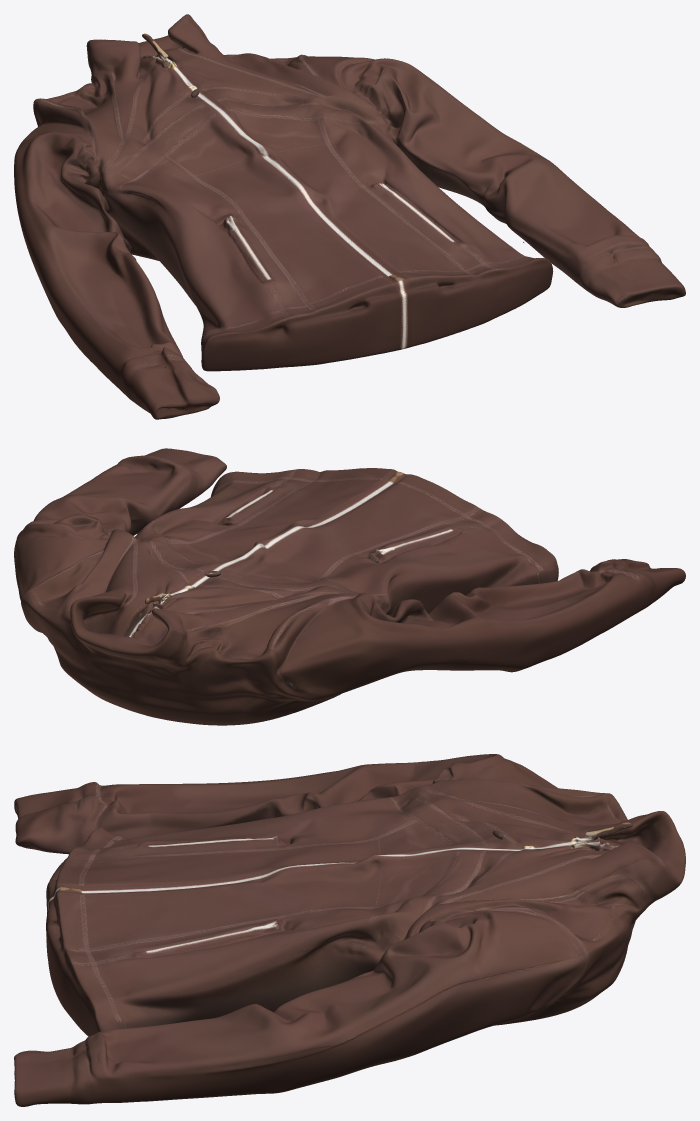
File: brown_rashguard.glb
3 views of the same model, one above another, from view 1: azimuth 30°, elevation 25°; view 2: azimuth 150°, elevation 25°; view 3: azimuth 270°, elevation 25° (orthographic). The views are drawn at different scales.
Bounding box in the file's own units: 1.9 × 0.4353 × 1.86.
Materials: 1 (1 with a texture image).
